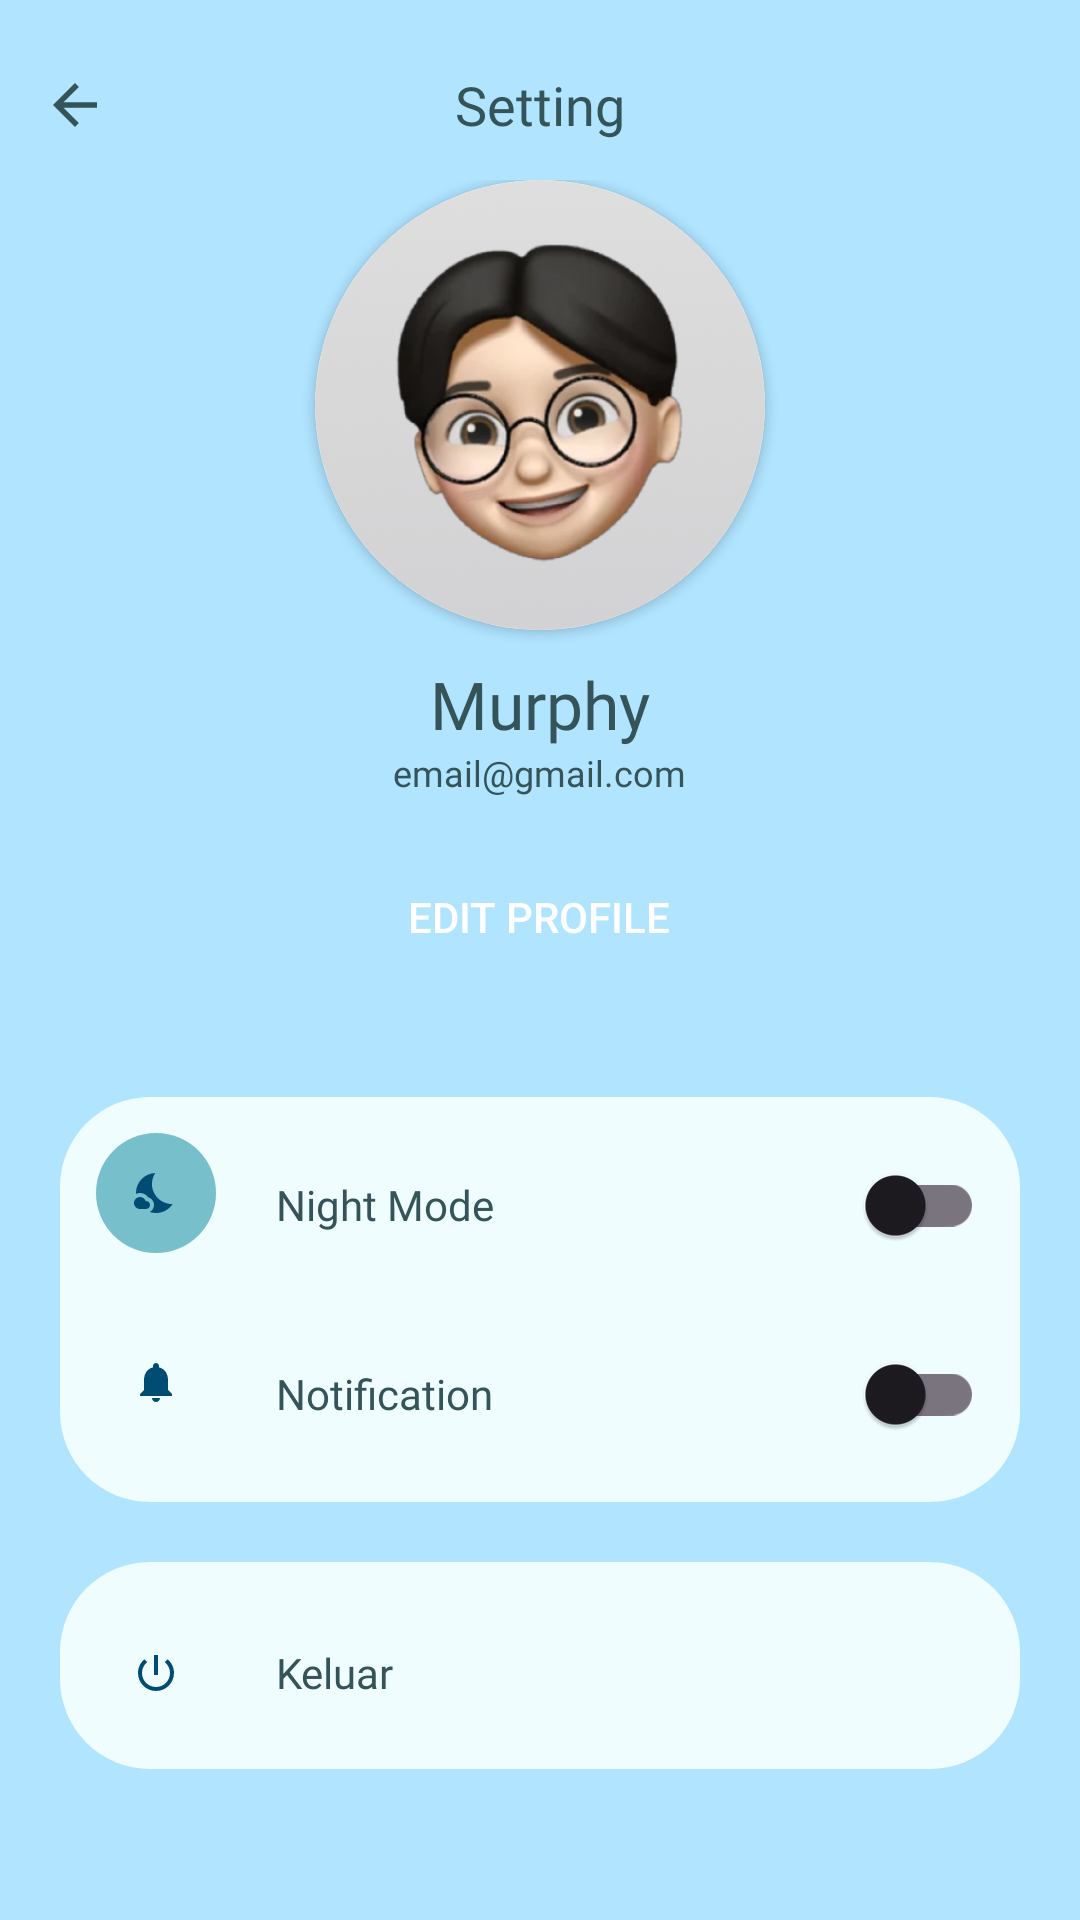

Icon click points for this 1080px x 1920px phone screenshot, format point (x, y):
icon notifikasi: point (156, 1382)
tombol back: point (75, 105)
